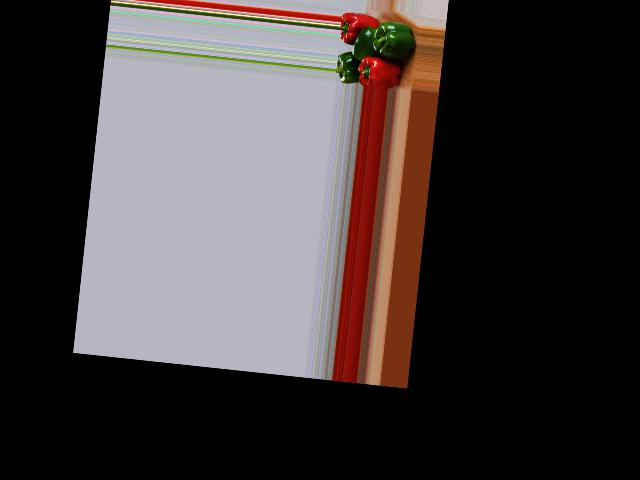bell_pepper: (358, 53, 407, 90)
